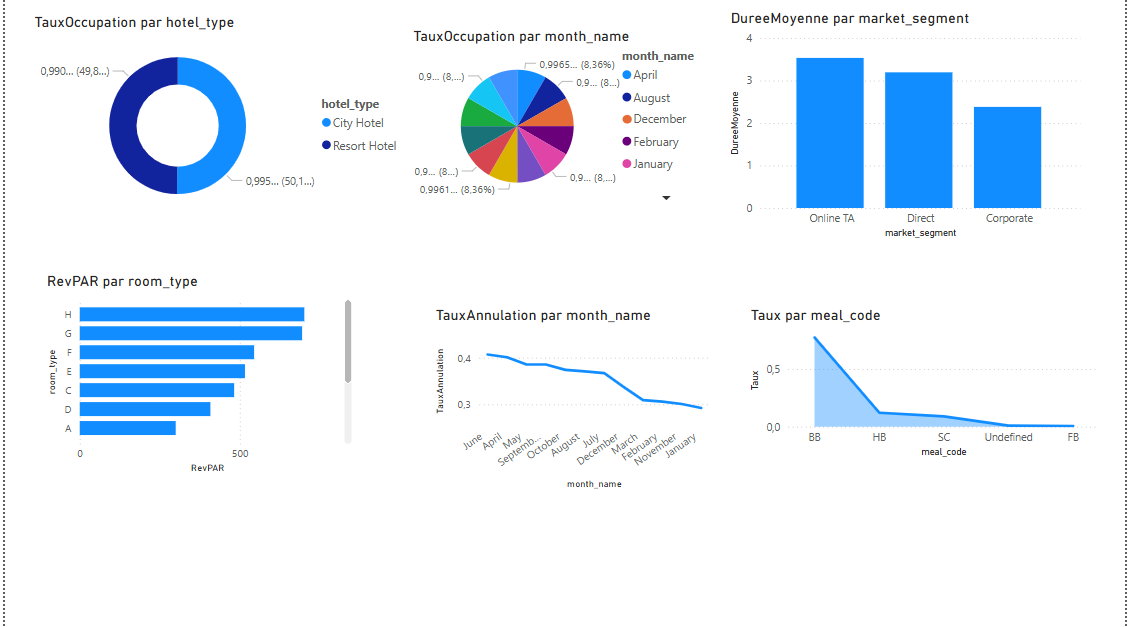

Layout of this report page (visuals, bound fields, positions):
{"tool":"powerbi","page":{"name":"Page 1","canvas":[1280,720],"ordinal":0},"visuals":[{"type":"donutChart","fields":{"Y":["dw_final fact_booking.TauxOccupation"],"Category":["dw_final dim_hotel.hotel_type"]},"box":[28.6,17.1,432.9,238.6],"z":0},{"type":"pieChart","fields":{"Y":["dw_final fact_booking.TauxOccupation"],"Series":["dw_final dim_time.month_name"]},"box":[461.4,32.9,348.6,208.6],"z":1000},{"type":"lineStackedColumnComboChart","fields":{"Category":["dw_final dim_sales_channel.market_segment"],"Y":["dw_final fact_booking.DureeMoyenne"]},"box":[824.3,12.9,410,267.1],"z":2000},{"type":"barChart","fields":{"Category":["dw_final dim_room.room_type"],"Y":["dw_final fact_booking.RevPAR"]},"box":[42.9,312.9,358.6,235.7],"z":3000},{"type":"lineChart","fields":{"Y":["dw_final fact_booking.TauxAnnulation"],"Category":["dw_final dim_time.month_name"]},"box":[487.1,351.4,322.9,215.7],"z":4000},{"type":"areaChart","fields":{"Category":["dw_final dim_meal.meal_code"],"Y":["dw_final fact_booking.TauxRepas"]},"box":[847.1,351.4,408.6,178.6],"z":5000}]}

Visuals, with their boxes in screenshot pixels (x1, y1, x2, y2), scaled from the page's 1280x720 canvas onto the 1130x627 screenshot:
donutChart - dw_final fact_booking.TauxOccupation x dw_final dim_hotel.hotel_type: (25, 15, 407, 223)
pieChart - dw_final fact_booking.TauxOccupation x dw_final dim_time.month_name: (407, 29, 715, 210)
lineStackedColumnComboChart - dw_final dim_sales_channel.market_segment x dw_final fact_booking.DureeMoyenne: (728, 11, 1090, 244)
barChart - dw_final dim_room.room_type x dw_final fact_booking.RevPAR: (38, 272, 354, 478)
lineChart - dw_final fact_booking.TauxAnnulation x dw_final dim_time.month_name: (430, 306, 715, 494)
areaChart - dw_final dim_meal.meal_code x dw_final fact_booking.TauxRepas: (748, 306, 1109, 462)
